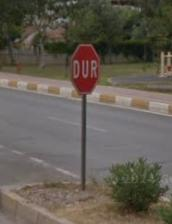stop: (70, 44, 99, 97)
